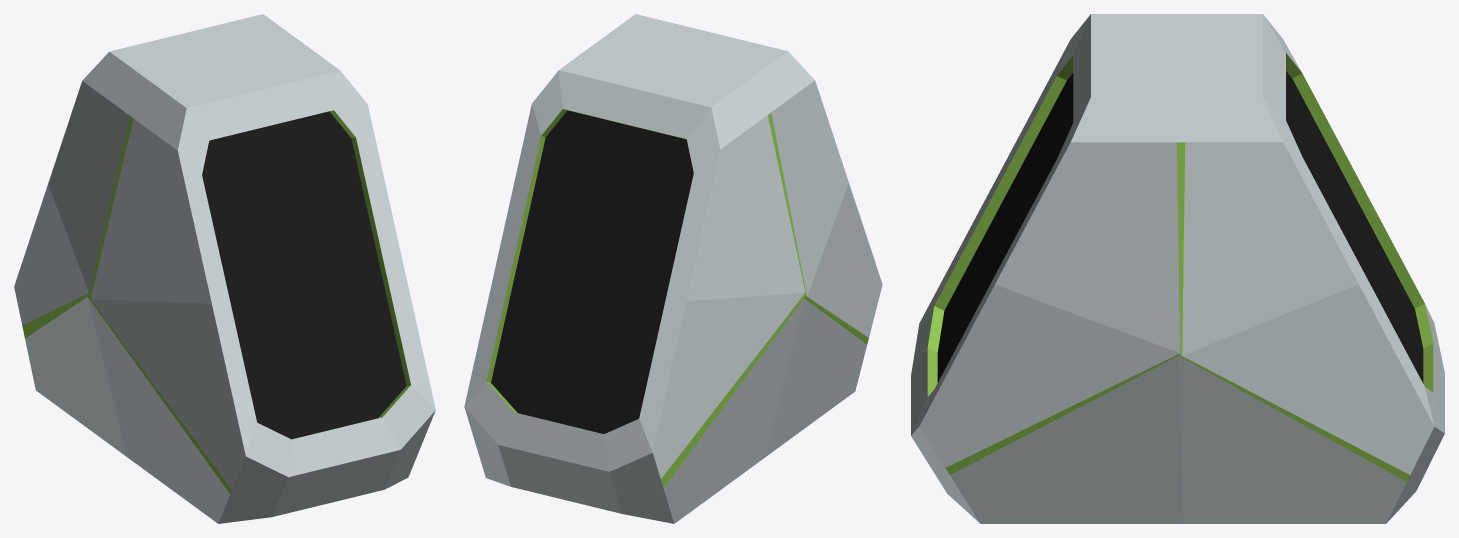
File: Alien Computer.glb
3 renders of one model, left to right at view 1: azimuth 30°, elevation 25°; view 2: azimuth 150°, elevation 25°; view 3: azimuth 270°, elevation 25°, orthographic. The views are drawn at different scales.
Visible parts, largest first — view 1: group1675599341; view 2: group1675599341; view 3: group1675599341.
Boxes of the visible parts, x1,y1,x2,y2 form: group1675599341: (14, 14, 435, 523); group1675599341: (464, 14, 882, 523); group1675599341: (911, 14, 1444, 523).
Size of the model in its own units: 0.2693 by 0.357 by 0.4145.
